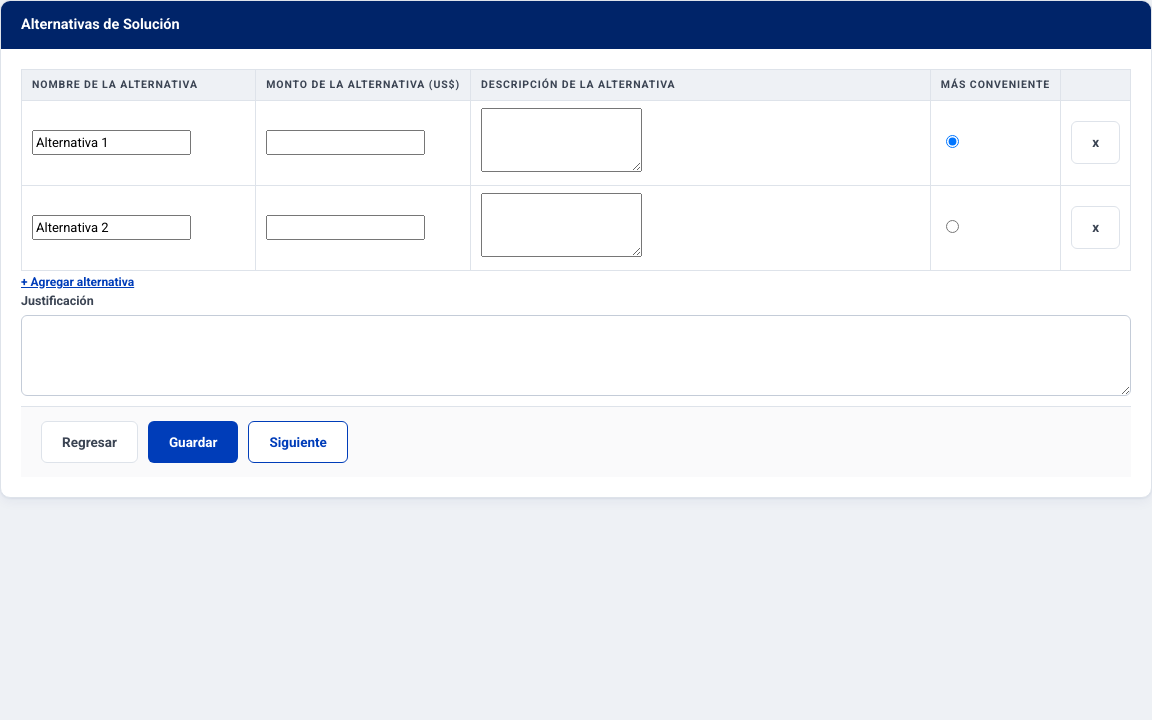
it: AlternativasSolucionPage › solo puede seleccionarse una alternativa como la más conveniente (RN2-6)
The width and height of the screenshot is (1152, 720).
Expected: the 1st field showing "Alternativa 1" is shown, [32,130,191,155]
Expected: the 1st radio button named "Más conveniente" is checked, [946,135,959,148]
What coordinates should you click on to do the following:
click the 2nd radio button named "Más conveniente"
I would click on:
 (952, 226)
Its box is [946,220,959,233].
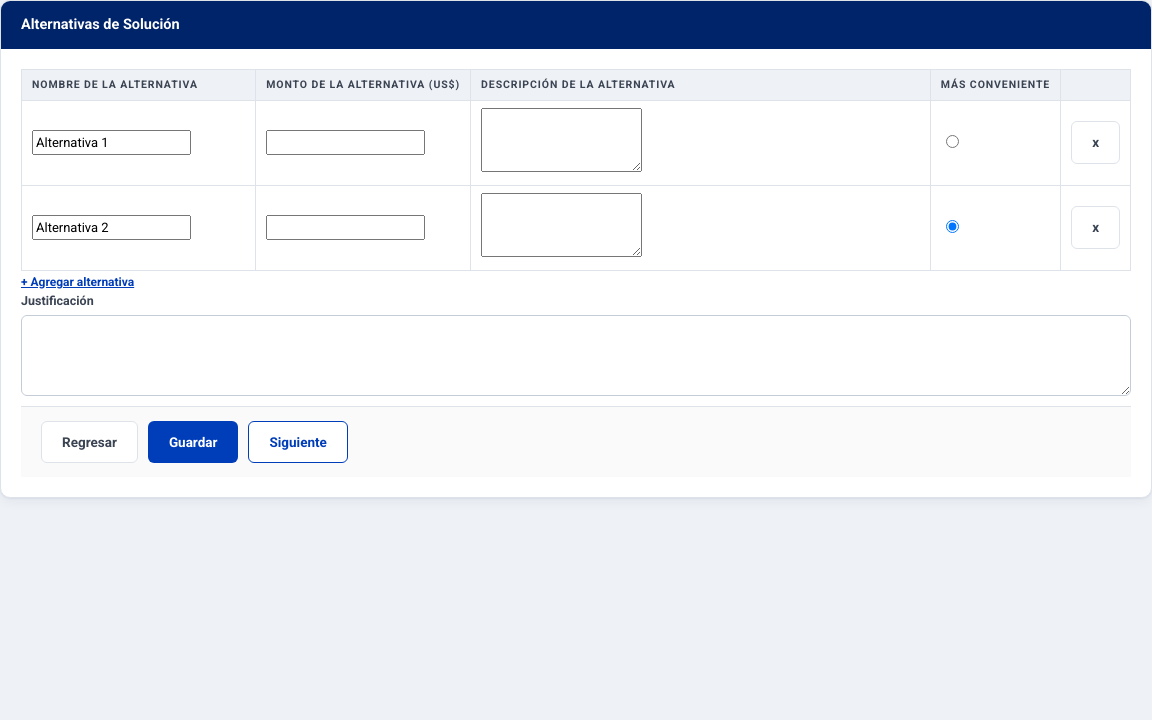
Result: the 1st radio button named "Más conveniente" is not checked at [946,135,959,148]
Result: the 2nd radio button named "Más conveniente" is checked at [946,220,959,233]
